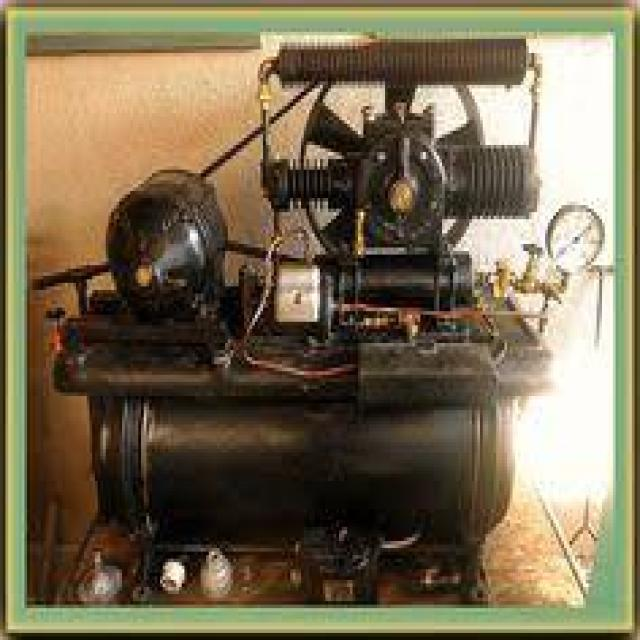compressor: (36, 28, 562, 605)
corrosion detected: (73, 544, 125, 604), (195, 541, 236, 598), (382, 170, 418, 219), (155, 552, 187, 594)
